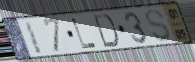3: (123, 10, 149, 45)
7: (42, 17, 63, 55)
D: (92, 13, 121, 49)
I: (22, 19, 44, 56)
L: (70, 17, 99, 50)
S: (145, 8, 172, 44)
